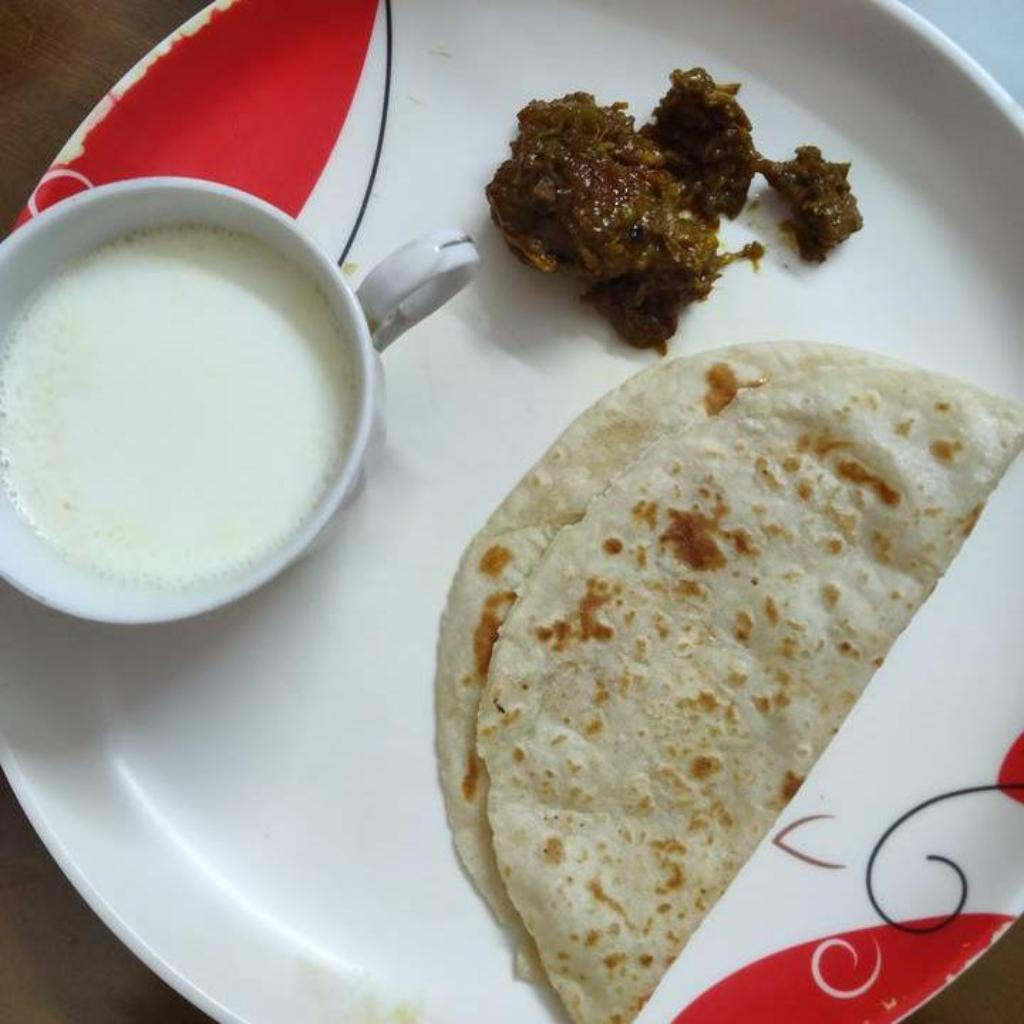achar: (491, 65, 867, 338)
milk: (0, 226, 353, 591)
ruti: (430, 340, 1023, 1021)
